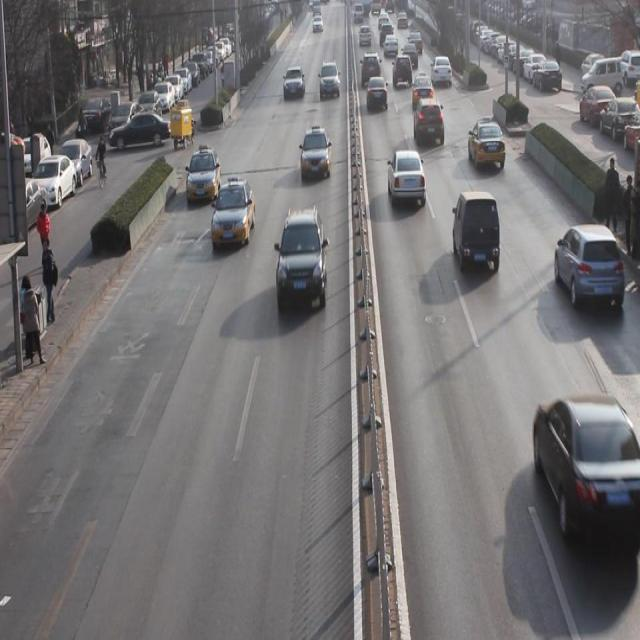car: (532, 399, 632, 543), (555, 226, 624, 313), (276, 212, 329, 313), (212, 183, 256, 248), (387, 151, 428, 214), (468, 119, 507, 174), (185, 149, 223, 205), (300, 130, 332, 183), (414, 100, 445, 150), (318, 63, 341, 104), (282, 65, 305, 102), (392, 53, 413, 92), (361, 52, 382, 88), (430, 56, 452, 87), (367, 78, 387, 112), (412, 77, 432, 111)
truck: (452, 191, 503, 281)
